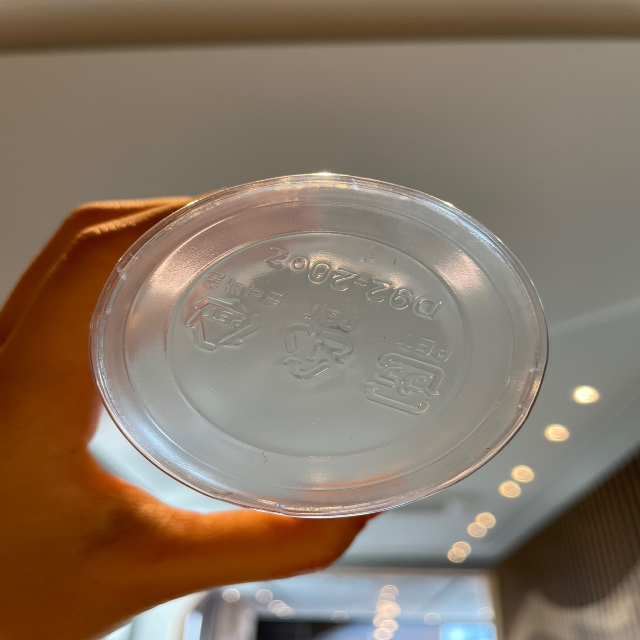pet: (359, 323, 460, 423), (180, 266, 286, 359), (281, 293, 363, 390)
